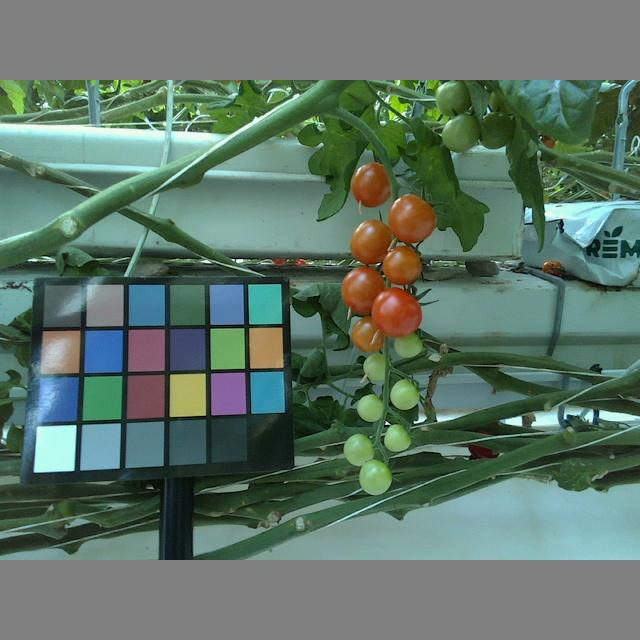green: (477, 112, 518, 150), (442, 113, 479, 154), (437, 81, 475, 119), (356, 458, 393, 495), (390, 377, 423, 412), (343, 432, 374, 467), (392, 327, 425, 358), (363, 350, 391, 385), (380, 421, 411, 451), (356, 393, 384, 424)
pink: (371, 286, 422, 337), (341, 266, 393, 316), (388, 191, 435, 244), (349, 160, 397, 206), (350, 218, 397, 264), (383, 243, 423, 283), (351, 316, 388, 354)
